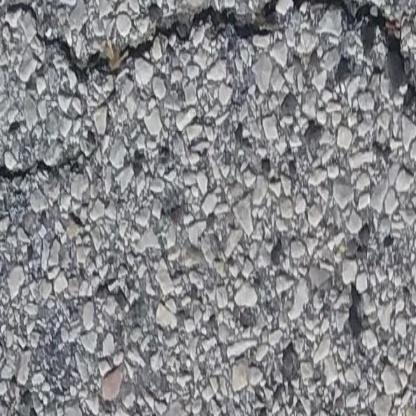Cracks: (2, 0, 416, 135), (0, 145, 87, 195)
